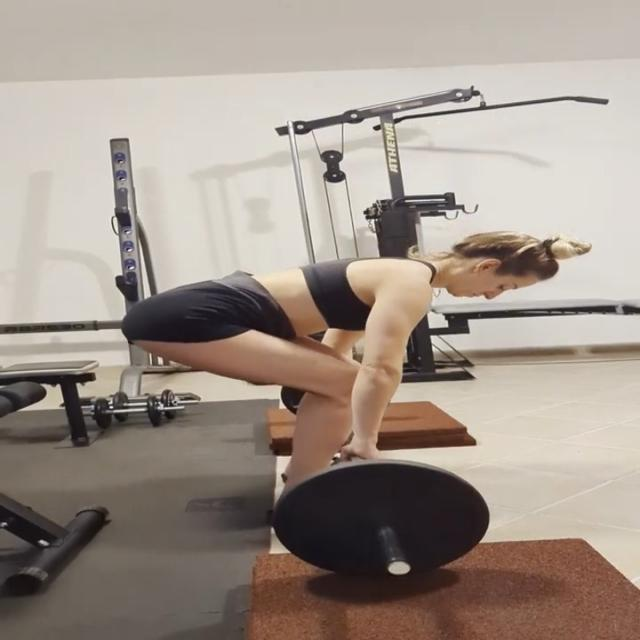barbell: (265, 456, 493, 596)
